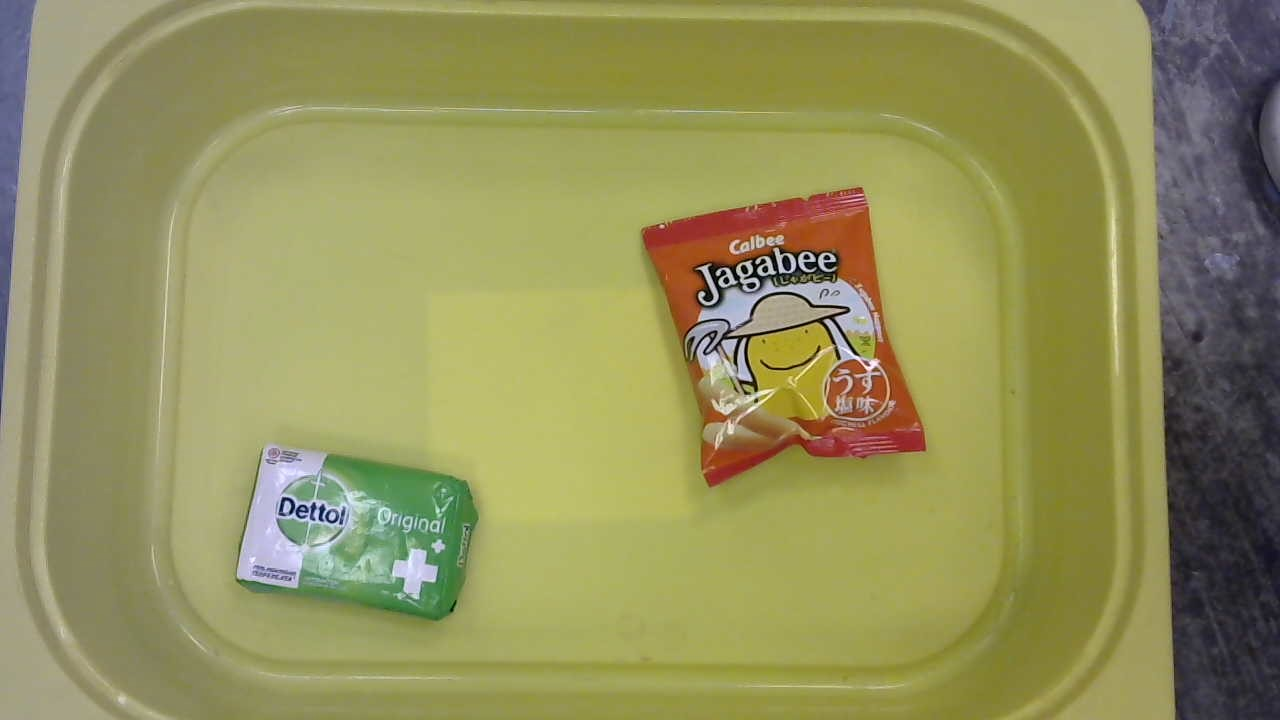Dettol: (226, 442, 482, 624)
JagabeeFarmer: (635, 185, 935, 491)
